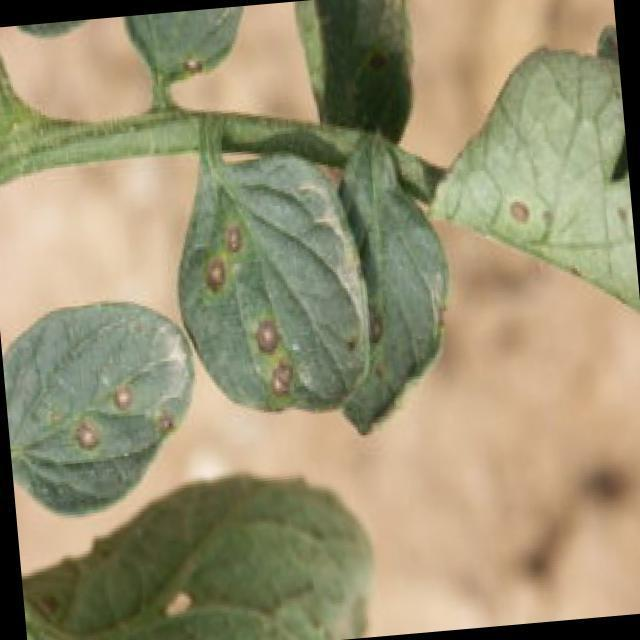Septoria: (200, 207, 298, 411), (70, 372, 182, 482)
